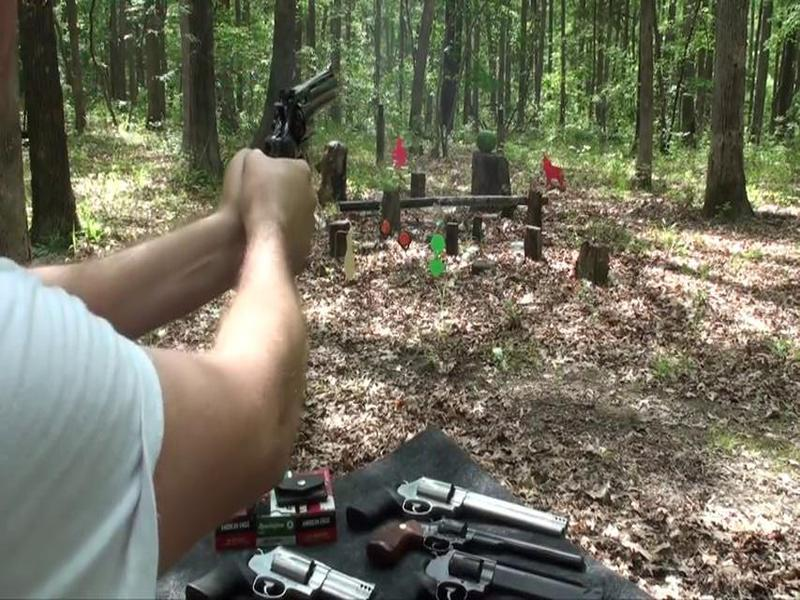Revolver: (256, 58, 349, 193)
